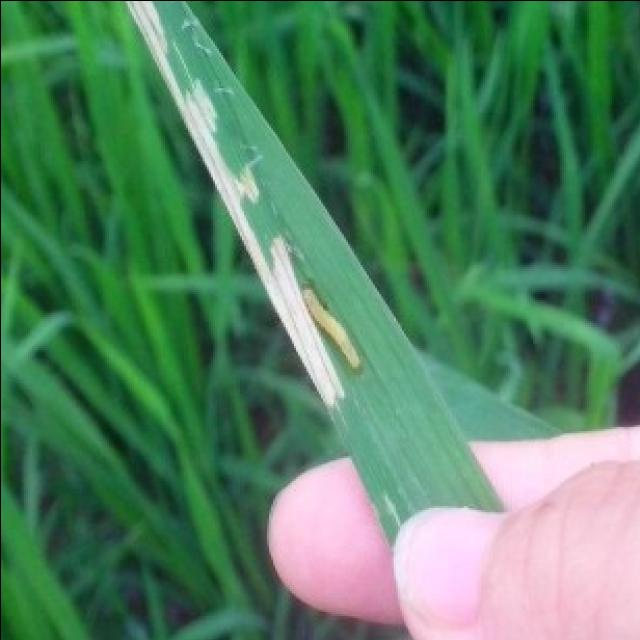rice leaf roller: (133, 0, 359, 405)
